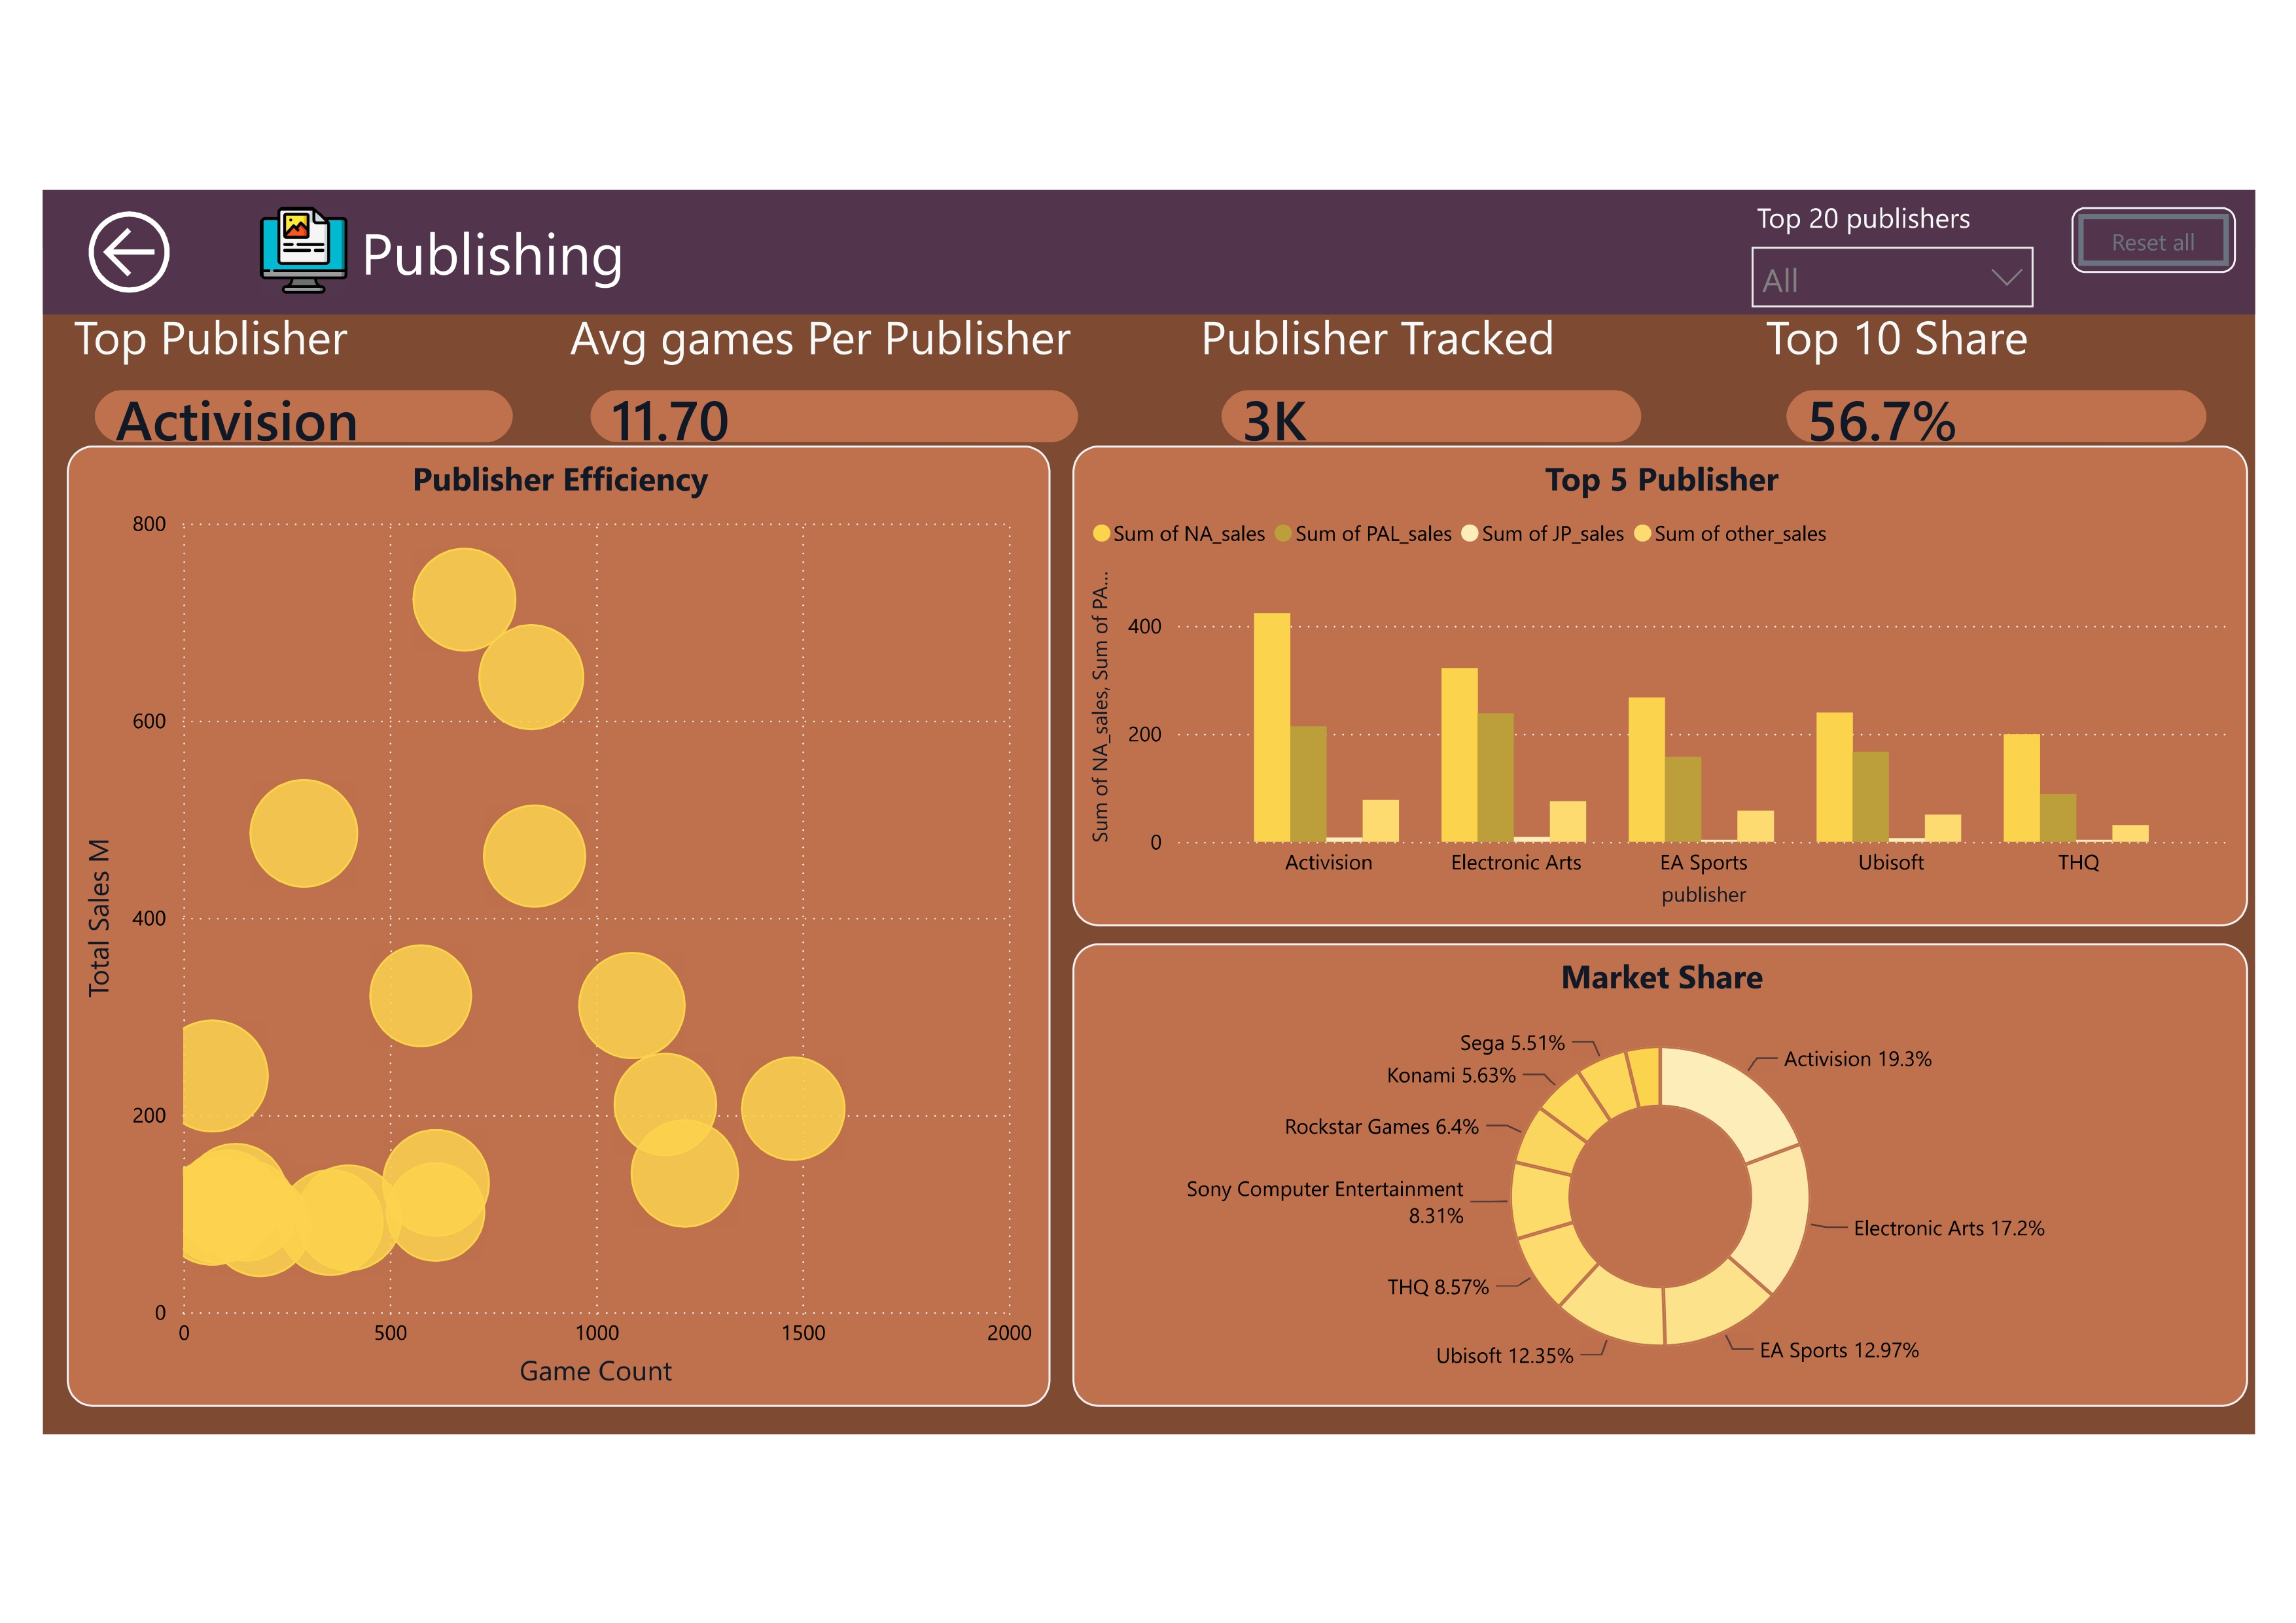

Layout of this report page (visuals, bound fields, positions):
{"tool":"powerbi","page":{"name":"Publishers","canvas":[1280,720],"ordinal":5},"visuals":[{"type":"shape","box":[0,0,1280,72],"z":0},{"type":"shape","box":[184.3,10.1,226.1,50.4],"z":1},{"type":"image","box":[115,10.1,72,50.4],"z":2},{"type":"actionButton","box":[20.2,5.8,79.2,60.5],"z":3},{"type":"slicer","fields":{"Values":["Games.publisher"]},"box":[979.2,0,182.9,72],"z":4},{"type":"actionButton","title":"Reset","box":[1173.6,10.1,95,37.4],"z":5},{"type":"cardVisual","title":"Top Publisher","fields":{"Data":["Text Card.Top Publisher"]},"box":[13,66.2,276.5,96.5],"z":6},{"type":"cardVisual","title":"Avg games Per Publisher","fields":{"Data":["_Measure.Avg Games per Publisher"]},"box":[299.5,66.2,316.8,96.5],"z":7},{"type":"cardVisual","title":"Publisher Tracked","fields":{"Data":["_Measure.Publisher Count"]},"box":[665.3,66.2,276.5,96.5],"z":8},{"type":"cardVisual","title":"Top 10 Share","fields":{"Data":["_Measure.Top 10 Publisher Share %"]},"box":[992.2,66.2,276.5,96.5],"z":9},{"type":"scatterChart","title":"Publisher Efficiency ","fields":{"X":["_Measure.Game Count"],"Y":["_Measure.Total Sales M"],"Category":["Games.publisher"],"Size":["_Measure.Avg Critic Score"]},"box":[14.4,148.3,568.8,555.8],"z":10},{"type":"clusteredColumnChart","title":"Top 5 Publisher","fields":{"Category":["Games.publisher"],"Y":["Sum(Games.na_sales)","Sum(Games.pal_sales)","Sum(Games.jp_sales)","Sum(Games.other_sales)"]},"box":[596.2,148.3,679.7,277.9],"z":11},{"type":"donutChart","title":"Market Share","fields":{"Category":["Games.publisher"],"Y":["_Measure.Publisher Share %"]},"box":[596.2,436.3,679.7,267.8],"z":12}]}

Visuals, with their boxes on the page's 1280x720 design canvas (x1, y1, x2, y2). These are canvas units, not pixel positions in the 2296x1623 screenshot, which may show the page scaled, cropped or inside an application window:
shape: <region>0, 0, 1280, 72</region>
shape: <region>184, 10, 410, 60</region>
image: <region>115, 10, 187, 60</region>
actionButton: <region>20, 6, 99, 66</region>
slicer - Games.publisher: <region>979, 0, 1162, 72</region>
"Reset" actionButton: <region>1174, 10, 1269, 48</region>
"Top Publisher" cardVisual: <region>13, 66, 290, 163</region>
"Avg games Per Publisher" cardVisual: <region>300, 66, 616, 163</region>
"Publisher Tracked" cardVisual: <region>665, 66, 942, 163</region>
"Top 10 Share" cardVisual: <region>992, 66, 1269, 163</region>
"Publisher Efficiency " scatterChart: <region>14, 148, 583, 704</region>
"Top 5 Publisher" clusteredColumnChart: <region>596, 148, 1276, 426</region>
"Market Share" donutChart: <region>596, 436, 1276, 704</region>
